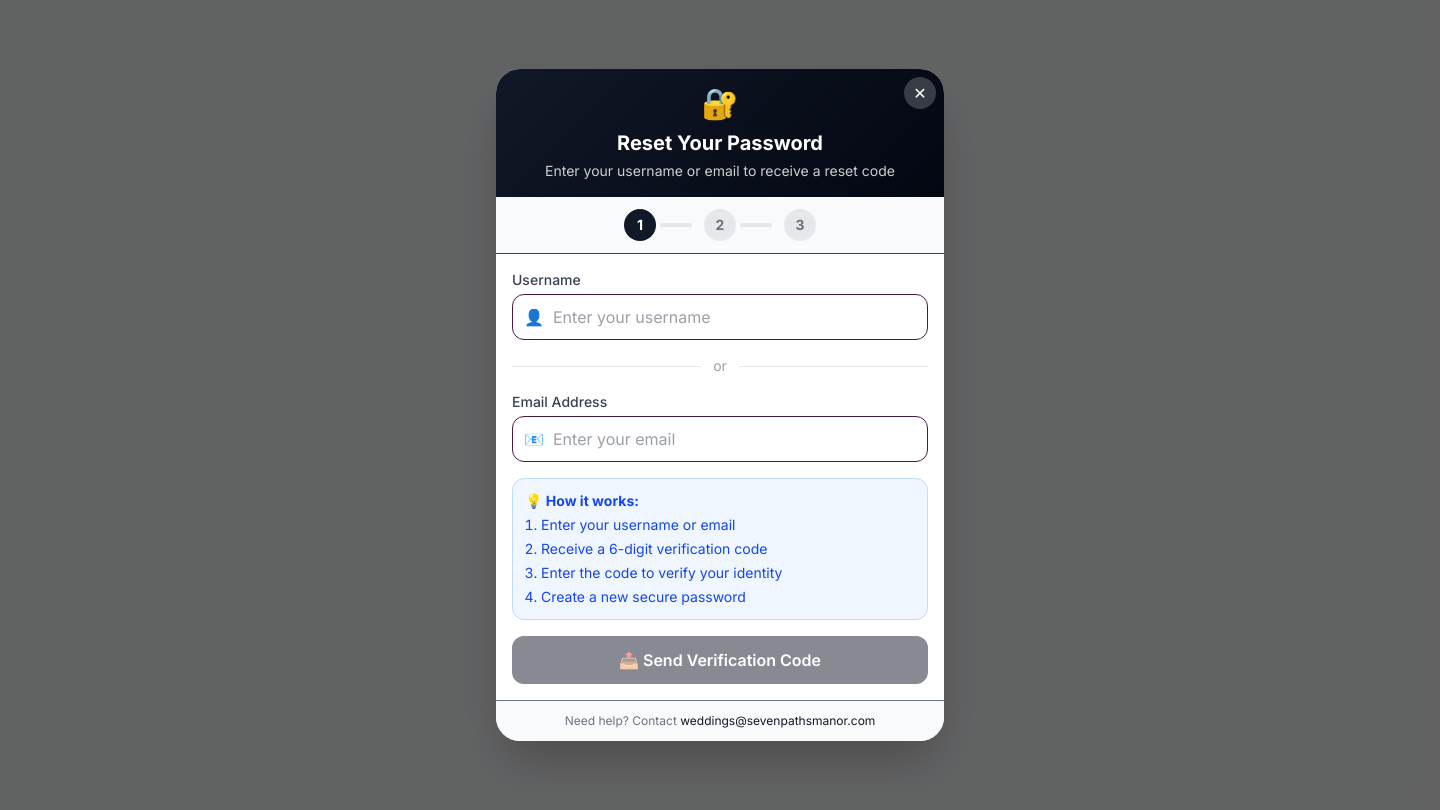
PasswordReset local hang guards › does not stay on Sending Code when hashing throws
This screenshot has width=1440, height=810.
Type "jane" into the field labelled "Username" at (720, 317), box left=512, top=294, right=928, bottom=340
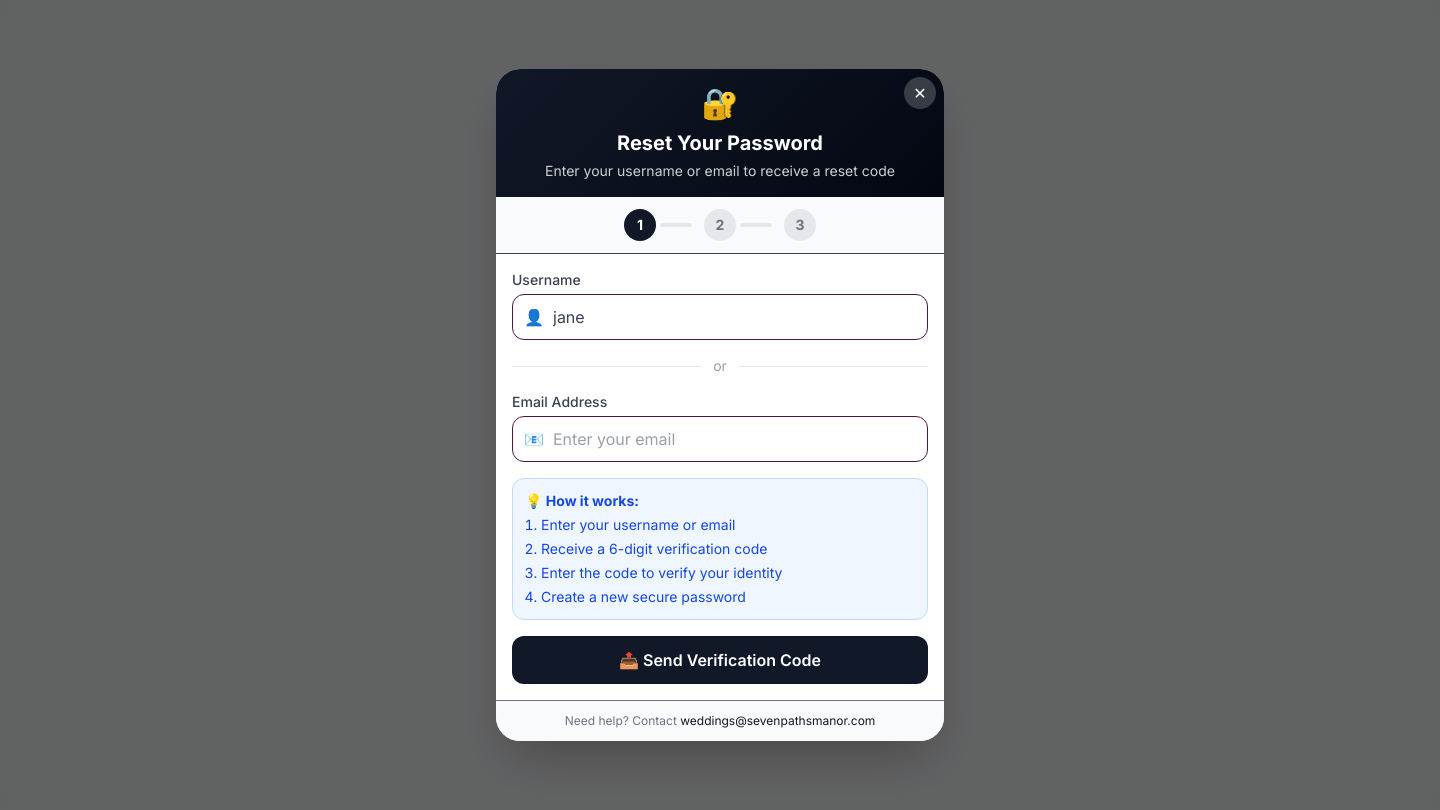
Click the button "📤 Send Verification Code" at (720, 660), box left=512, top=636, right=928, bottom=684
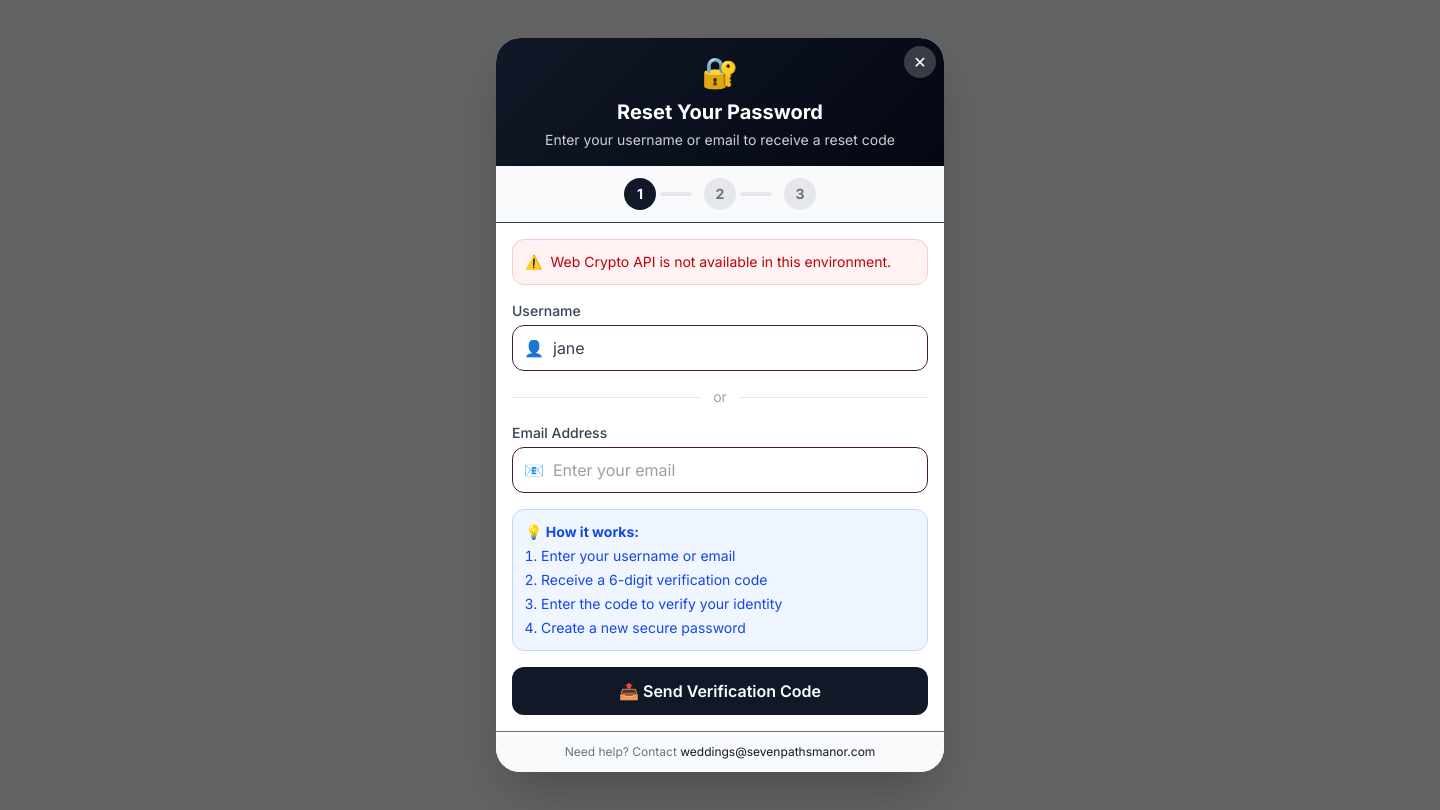
Expected: the button "📤 Send Verification Code" is enabled, left=512, top=667, right=928, bottom=715
Expected: the text "Web Crypto API is not available in this environment." is shown, left=550, top=252, right=891, bottom=272
